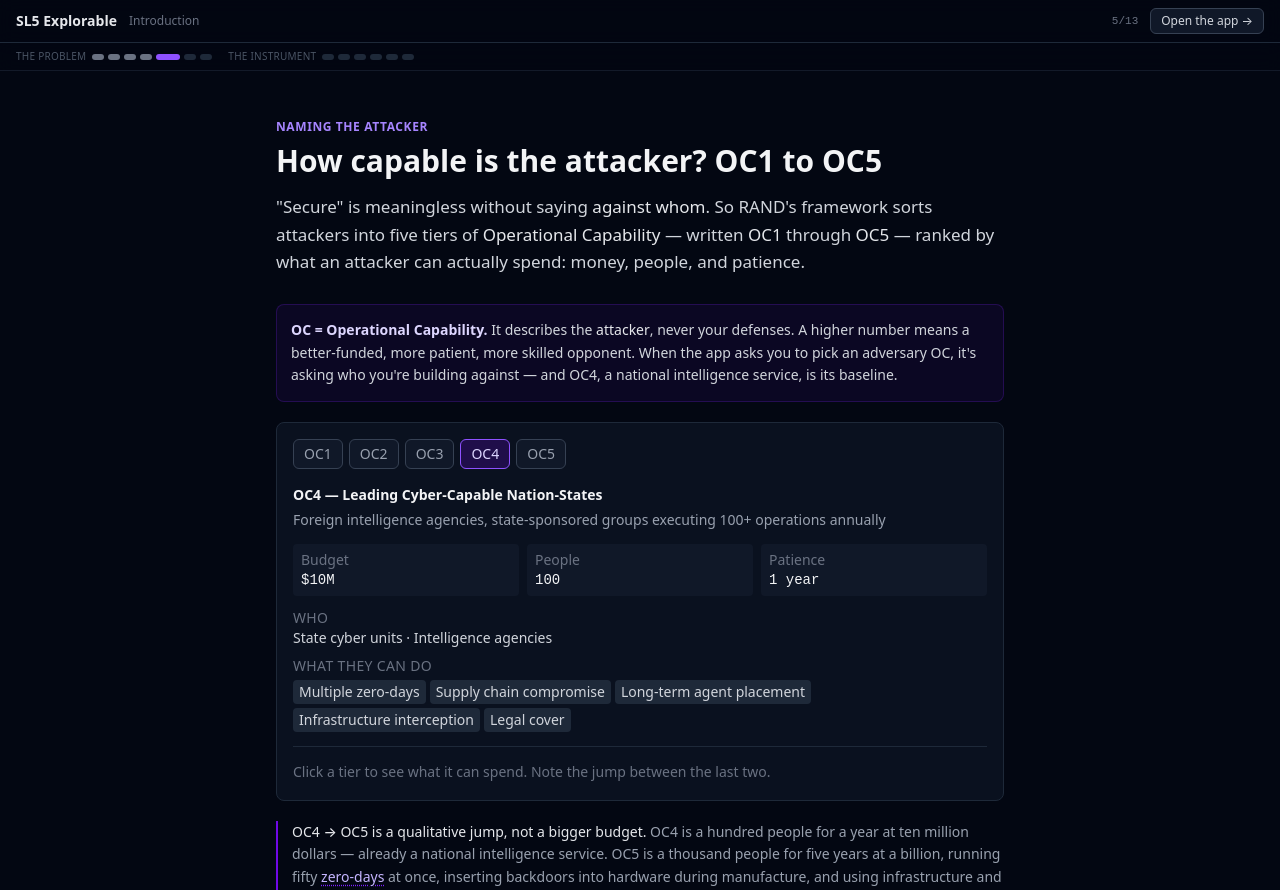
Test: the demos respond › the OC ladder shows OC5's step-change resources when picked
The image size is (1280, 890).
Expected: the heading "OC4 — Leading Cyber-Capable Nation-States" is shown, [293,485,603,504]
What coordinates should you click on to do the following:
click the button "OC5"
I would click on:
 (541, 454)
Its box is [516,439,566,469].
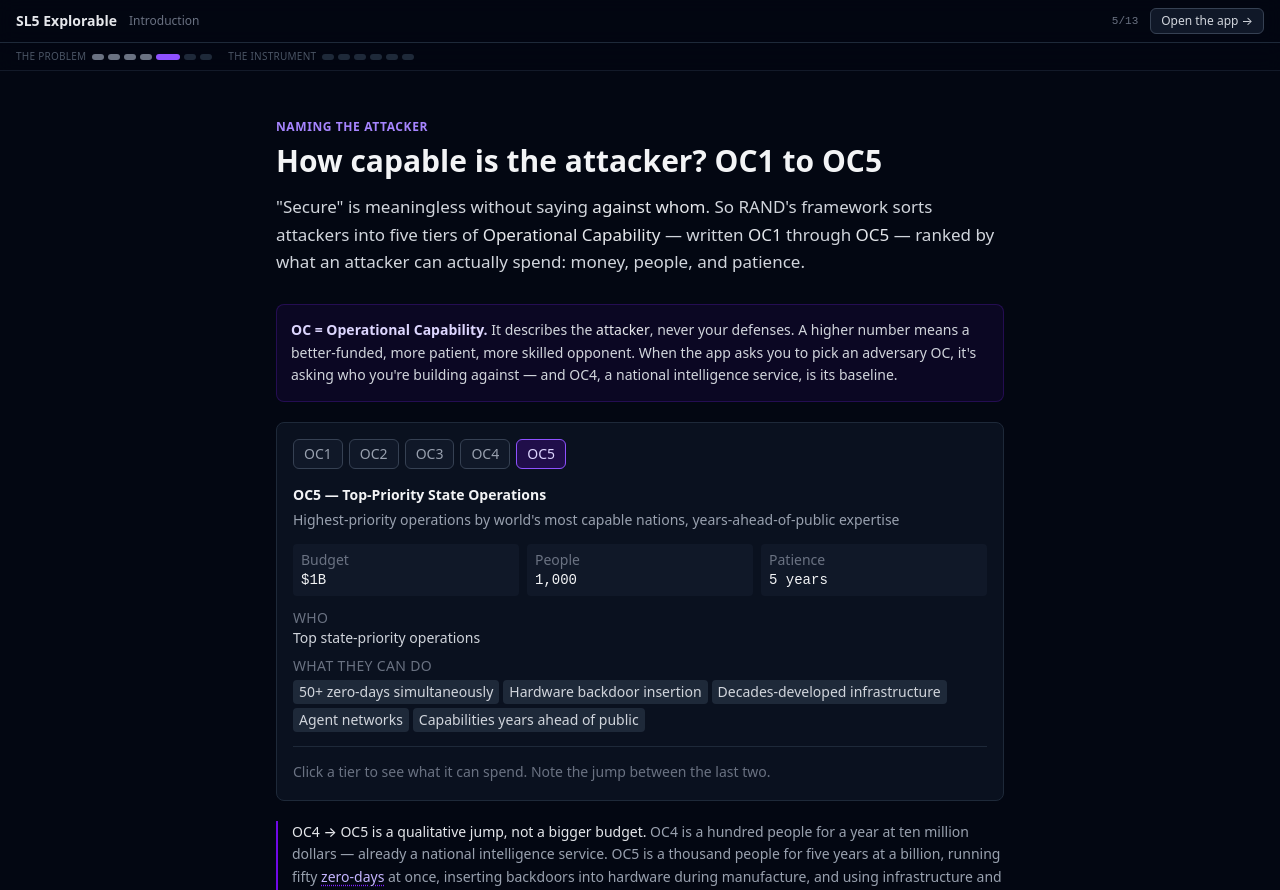
Now the heading "OC5 — Top-Priority State Operations" is shown, box [293,485,546,504]
Now the text "$1B" is shown, box [301,572,326,588]
Now the text "50+ zero-days simultaneously" is shown, box [293,680,499,704]
